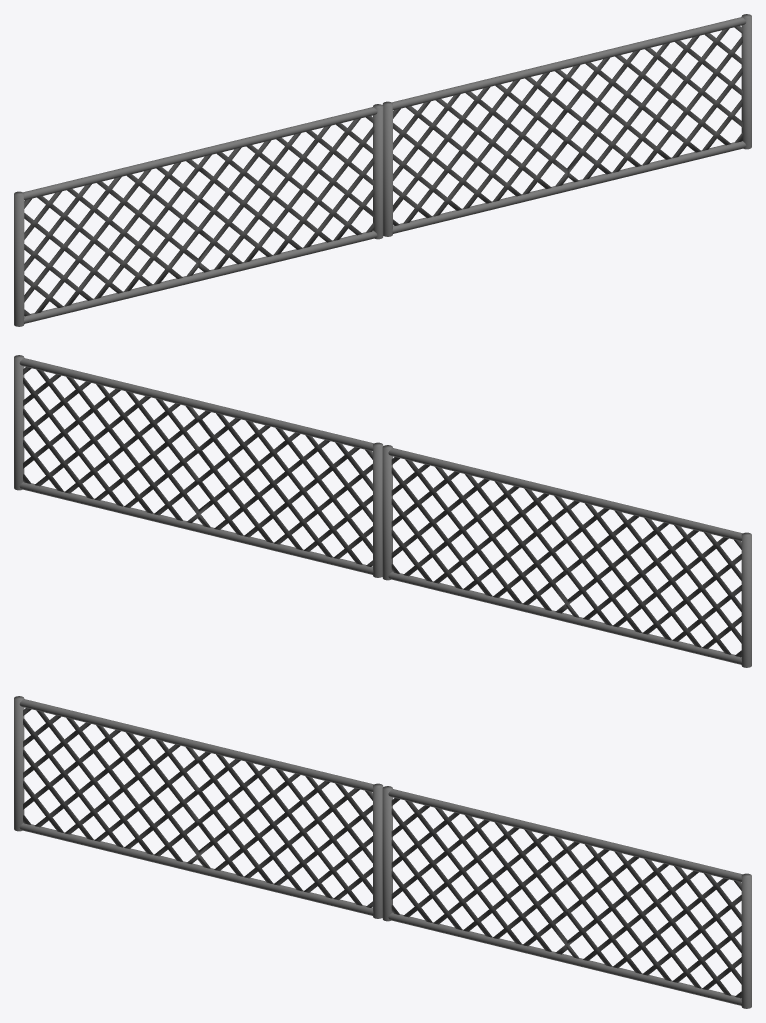
File: gates.fbx
The picture shows the model from 3 angles, top to bottom: view 1: azimuth 30°, elevation 25°; view 2: azimuth 150°, elevation 25°; view 3: azimuth 330°, elevation 25°; orthographic projection.
Parts seen in each view (by area): view 1: gate_01, gate_02; view 2: gate_01, gate_02; view 3: gate_02, gate_01.
Boxes of the visible parts, box(x1,y1,x2,y2) form: gate_01: box(14, 104, 383, 326); gate_02: box(382, 14, 751, 236); gate_01: box(382, 445, 751, 667); gate_02: box(14, 355, 383, 577); gate_02: box(382, 786, 751, 1008); gate_01: box(14, 696, 383, 918).
Size of the model in its own units: 821 by 139 by 10.
